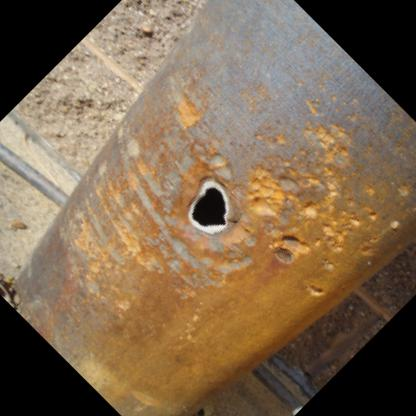burst: (177, 168, 253, 249)
